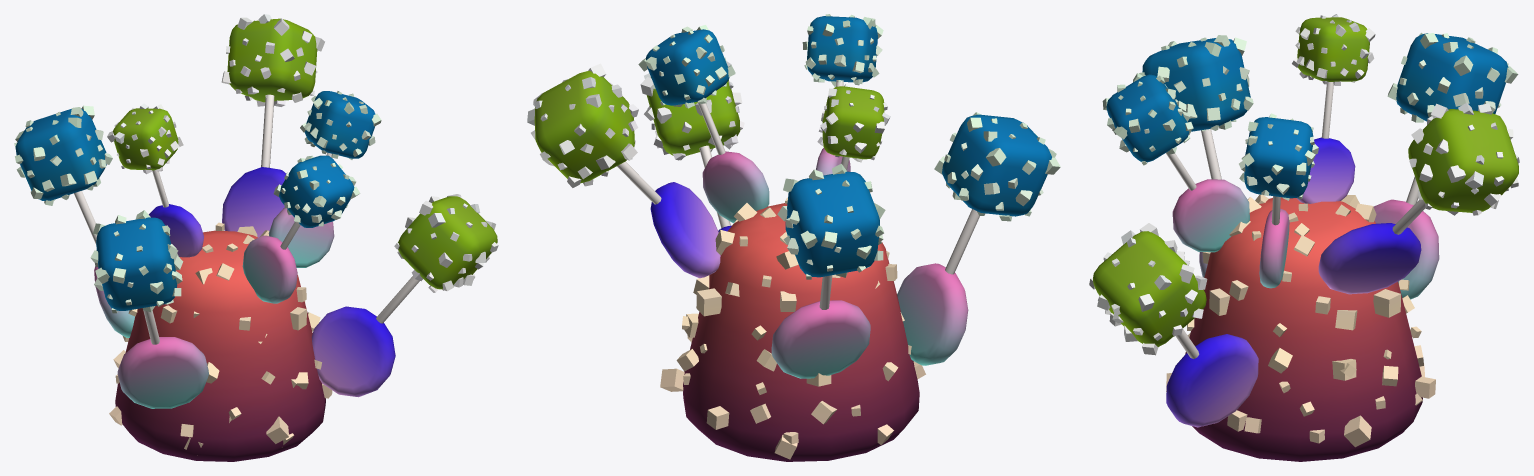
File: cw_PlantsFlowers_23.fbx
3 renders of one model, left to right at view 1: azimuth 30°, elevation 25°; view 2: azimuth 150°, elevation 25°; view 3: azimuth 270°, elevation 25°, orthographic. The views are drawn at different scales.
Parts seen in each view (by area): view 1: cw_pf_23; view 2: cw_pf_23; view 3: cw_pf_23.
Boxes of the visible parts, left/top/right/bottom form: cw_pf_23: left=14, top=14, right=498, bottom=461; cw_pf_23: left=527, top=14, right=1060, bottom=461; cw_pf_23: left=1089, top=14, right=1519, bottom=461.
Size of the model in its own units: 181 by 149 by 152.
